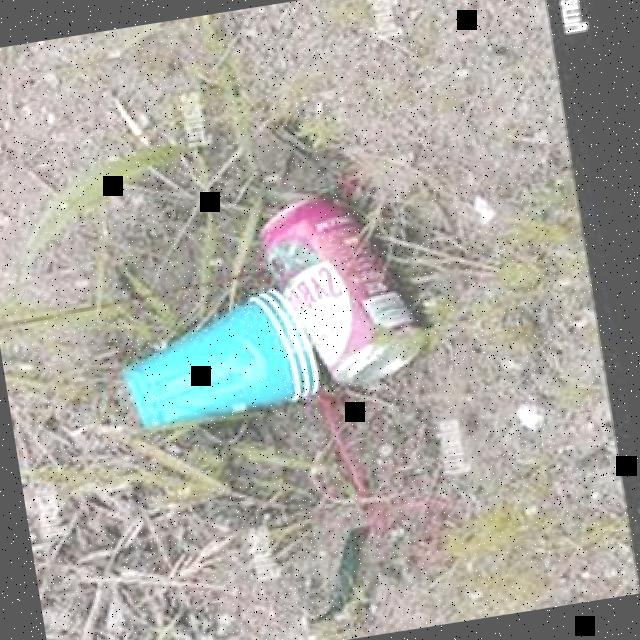can: (252, 176, 434, 398)
